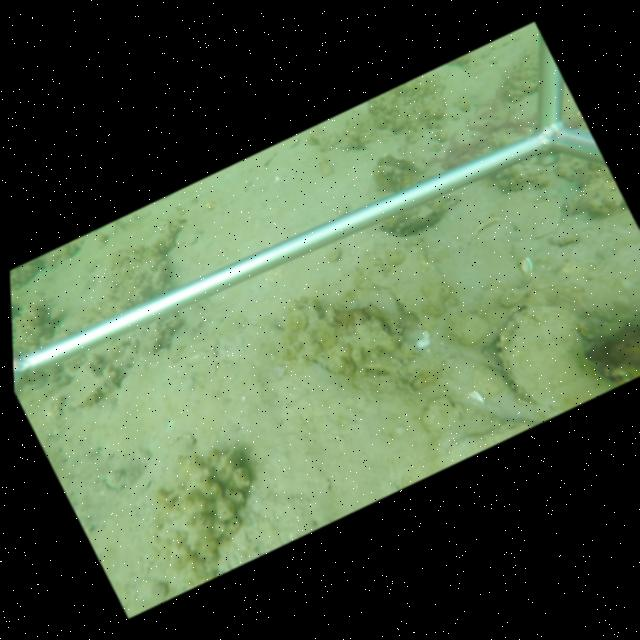Oyster-Closed: (498, 304, 624, 415), (395, 212, 439, 235)
Oyster-Indeterminate: (283, 296, 407, 376)
